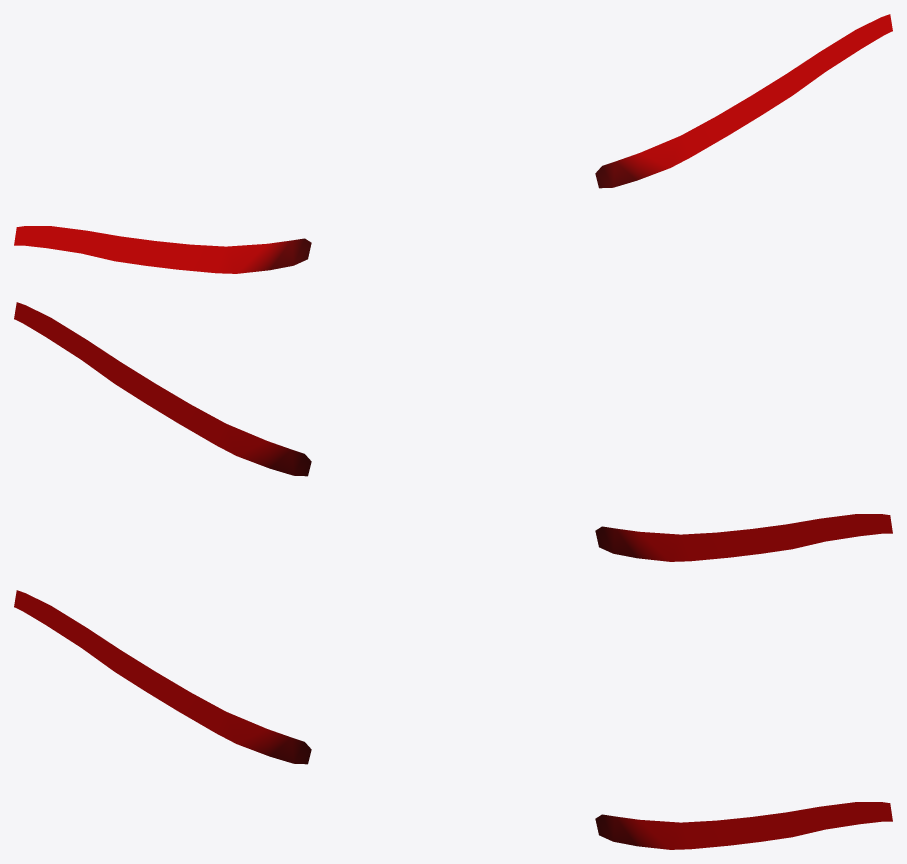
Rendered from frame180.fbx.
3 renders of one model, top to bottom at view 1: azimuth 30°, elevation 25°; view 2: azimuth 150°, elevation 25°; view 3: azimuth 330°, elevation 25°, orthographic.
Parts seen in each view (by area): view 1: MaterialLayer; view 2: MaterialLayer; view 3: MaterialLayer.
Part boxes in pixels (x1,y1,x2,y2): MaterialLayer: (14,14,892,273); MaterialLayer: (14,302,892,561); MaterialLayer: (14,590,892,849).
Size of the model in its own units: 1538 by 178 by 0.
